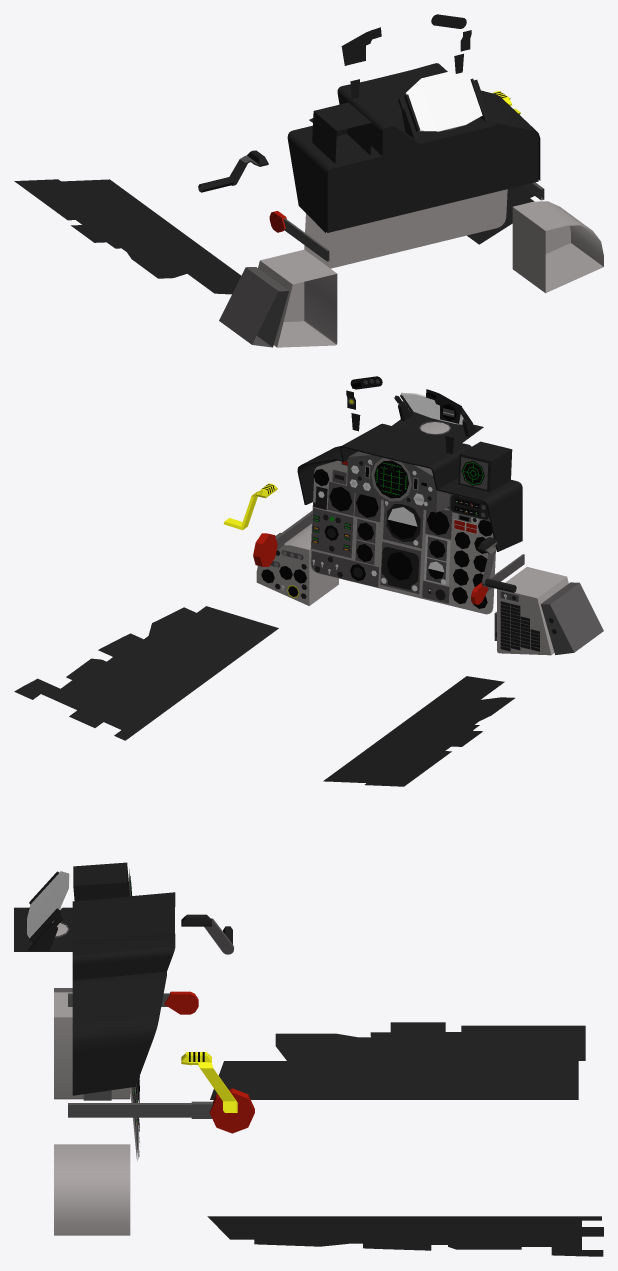
File: F-4_Panel.obj
3 views of the same model, one above another, from view 1: azimuth 30°, elevation 25°; view 2: azimuth 150°, elevation 25°; view 3: azimuth 270°, elevation 25° (orthographic). The views are drawn at different scales.
Parts seen in each view (by area): view 1: Plane; view 2: Plane; view 3: Plane.
Part boxes in pixels (x1,y1,x2,y2): Plane: (14,14,603,347); Plane: (14,376,603,786); Plane: (14,862,603,1256).
Size of the model in its own units: 8.86 by 5.42 by 9.13.
